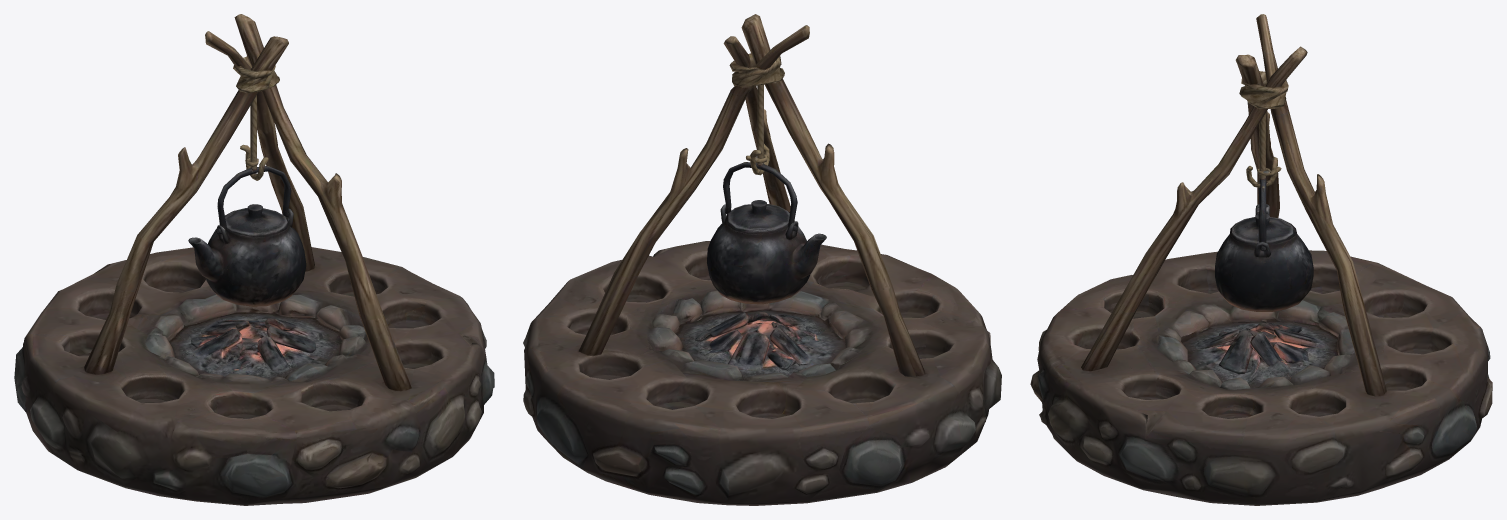
File: hearth.glb
3 views of the same model, side by side, from view 1: azimuth 30°, elevation 25°; view 2: azimuth 150°, elevation 25°; view 3: azimuth 270°, elevation 25° (orthographic). The views are drawn at different scales.
Size of the model in its own units: 1.11 by 1 by 1.11.
1 material, 1 textured.
